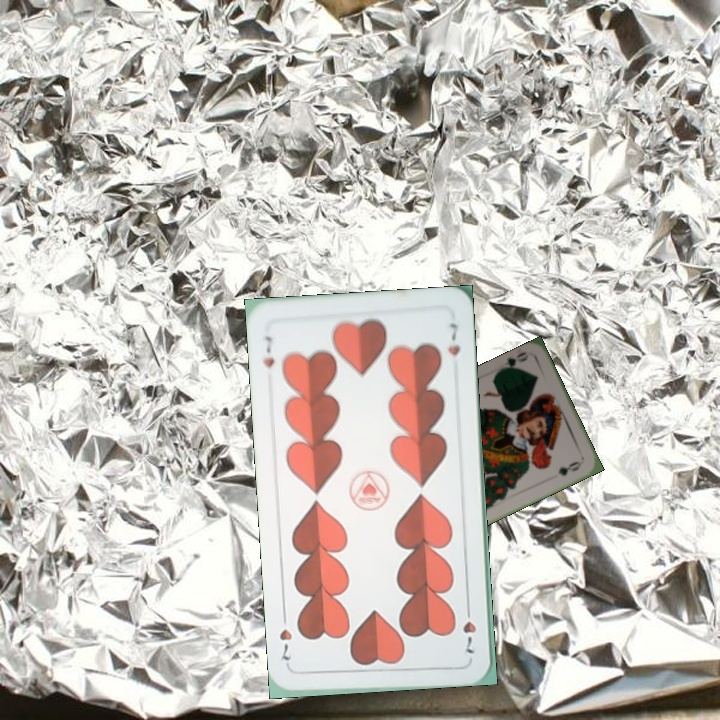GO: (494, 347, 531, 375)
H7: (458, 600, 479, 657), (259, 332, 277, 370)
